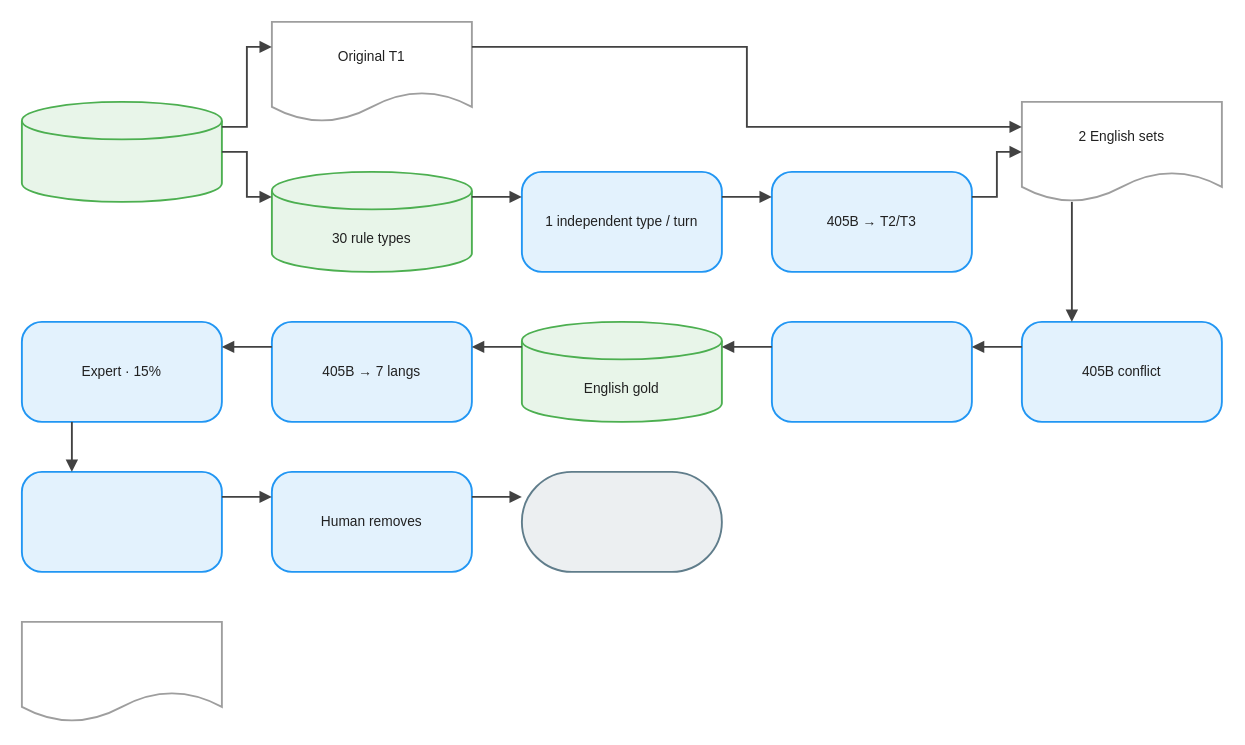
Image size: 1245x745. Some labels were removed from this diagram. The centre of each missing label's shape, as x and y in pixels:
"4501 · 8 langs" goes at point 621,521.
"CSV 56 miss T3" goes at point 121,671.
"Human audit" goes at point 871,371.
"IFEval English" goes at point 121,151.
"LLM flags" goes at point 121,521.
